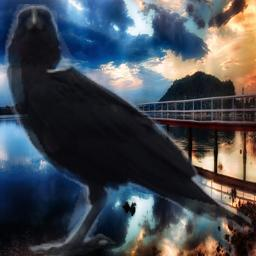Crow: (2, 4, 254, 255)
